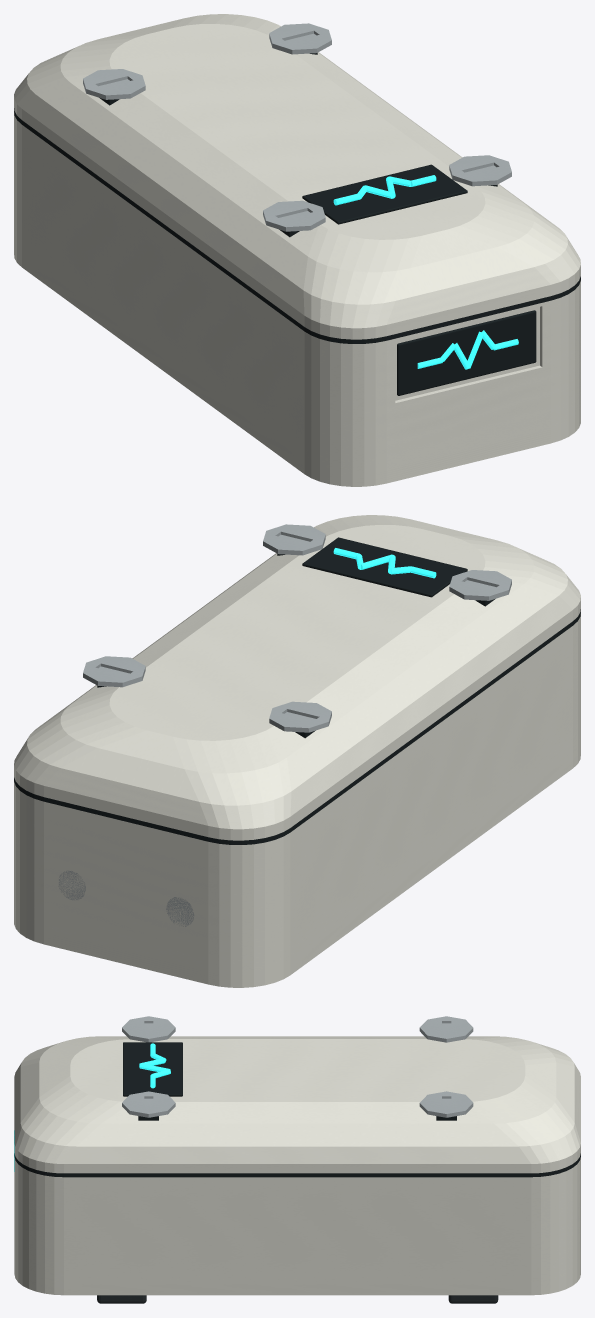
The model's file is chamber.glb.
3 views of the same model, one above another, from view 1: azimuth 30°, elevation 25°; view 2: azimuth 150°, elevation 25°; view 3: azimuth 270°, elevation 25° (orthographic). The views are drawn at different scales.
Visible parts, largest first — view 1: chamber_closed_domed_lid, chamber_cavity_wall, chamber_lower_pan, chamber_working_face_status_recess, chamber_lid_status_recess, chamber_inset_gasket, slotted_cam_1_0.72, slotted_cam_-1_-0.72, slotted_cam_1_-0.72, slotted_cam_-1_0.72; view 2: chamber_closed_domed_lid, chamber_cavity_wall, chamber_lower_pan, chamber_lid_status_recess, chamber_inset_gasket, slotted_cam_1_-0.72, slotted_cam_-1_0.72, slotted_cam_1_0.72, slotted_cam_-1_-0.72, chamber_rear_union_-0.25, chamber_rear_union_0.25; view 3: chamber_closed_domed_lid, chamber_cavity_wall, chamber_lower_pan, chamber_inset_gasket, chamber_lid_status_recess, slotted_cam_-1_0.72, slotted_cam_1_0.72, slotted_cam_1_-0.72, slotted_cam_-1_-0.72, chamber_cradle_0.85, chamber_cradle_-0.85.
Boxes of the visible parts, left/top/right/bottom form: chamber_closed_domed_lid: left=14, top=14, right=580, bottom=339; chamber_cavity_wall: left=14, top=112, right=580, bottom=470; chamber_lower_pan: left=14, top=239, right=580, bottom=486; chamber_working_face_status_recess: left=397, top=310, right=536, bottom=395; chamber_lid_status_recess: left=302, top=164, right=467, bottom=224; chamber_inset_gasket: left=14, top=108, right=580, bottom=343; slotted_cam_1_0.72: left=269, top=23, right=331, bottom=54; slotted_cam_-1_-0.72: left=263, top=200, right=325, bottom=231; slotted_cam_1_-0.72: left=449, top=155, right=511, bottom=186; slotted_cam_-1_0.72: left=83, top=69, right=145, bottom=99; chamber_closed_domed_lid: left=14, top=515, right=580, bottom=840; chamber_cavity_wall: left=14, top=613, right=580, bottom=971; chamber_lower_pan: left=14, top=740, right=580, bottom=987; chamber_lid_status_recess: left=302, top=537, right=467, bottom=597; chamber_inset_gasket: left=14, top=609, right=580, bottom=844; slotted_cam_1_-0.72: left=263, top=524, right=325, bottom=555; slotted_cam_-1_0.72: left=269, top=701, right=331, bottom=732; slotted_cam_1_0.72: left=83, top=656, right=145, bottom=687; slotted_cam_-1_-0.72: left=449, top=570, right=511, bottom=600; chamber_rear_union_-0.25: left=166, top=897, right=194, bottom=926; chamber_rear_union_0.25: left=58, top=870, right=85, bottom=900; chamber_closed_domed_lid: left=14, top=1036, right=580, bottom=1173; chamber_cavity_wall: left=14, top=1157, right=580, bottom=1282; chamber_lower_pan: left=14, top=1262, right=580, bottom=1295; chamber_inset_gasket: left=14, top=1153, right=580, bottom=1177; chamber_lid_status_recess: left=123, top=1042, right=182, bottom=1096; slotted_cam_-1_0.72: left=419, top=1016, right=473, bottom=1042; slotted_cam_1_0.72: left=419, top=1091, right=473, bottom=1117; slotted_cam_1_-0.72: left=122, top=1091, right=175, bottom=1117; slotted_cam_-1_-0.72: left=122, top=1016, right=175, bottom=1042; chamber_cradle_0.85: left=448, top=1295, right=498, bottom=1303; chamber_cradle_-0.85: left=97, top=1295, right=146, bottom=1303.
Size of the model in its own units: 1.24 by 1.06 by 2.74.
Materials: 5 (3 with a texture image).
